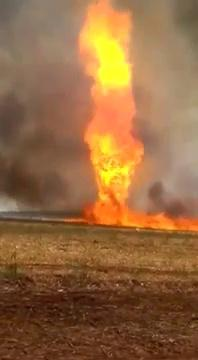fire: (88, 24, 132, 213)
